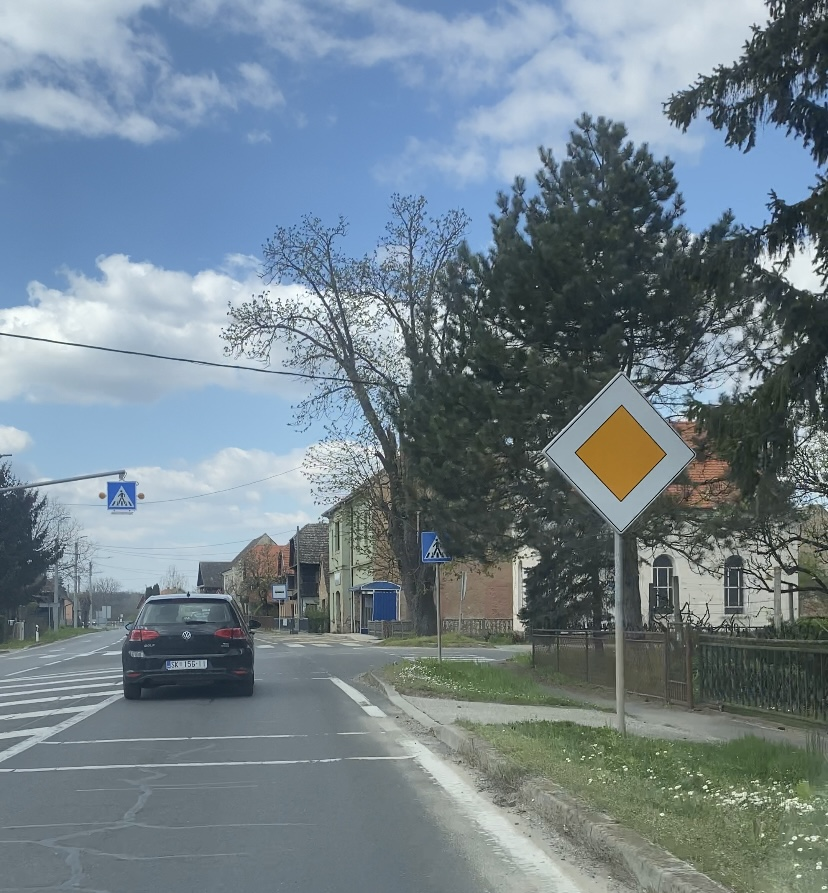Cesta s prednošću prolaska: (541, 371, 697, 535)
Pješački prijelaz: (107, 482, 136, 509)
